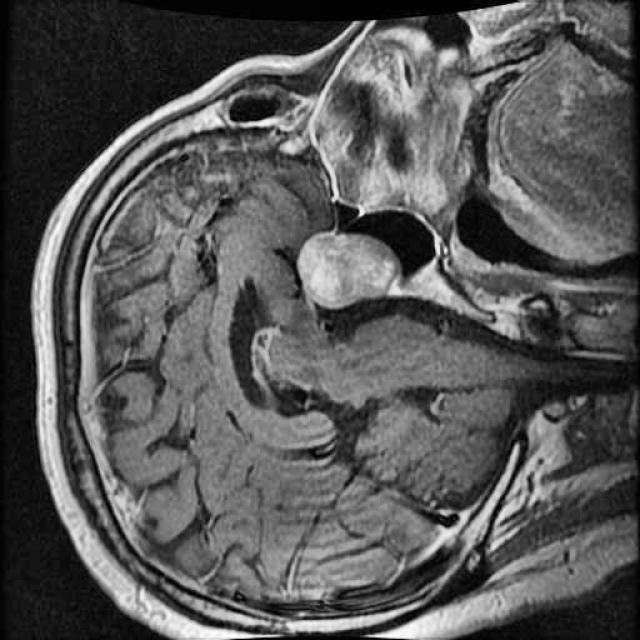Tumor: (289, 214, 405, 318)
